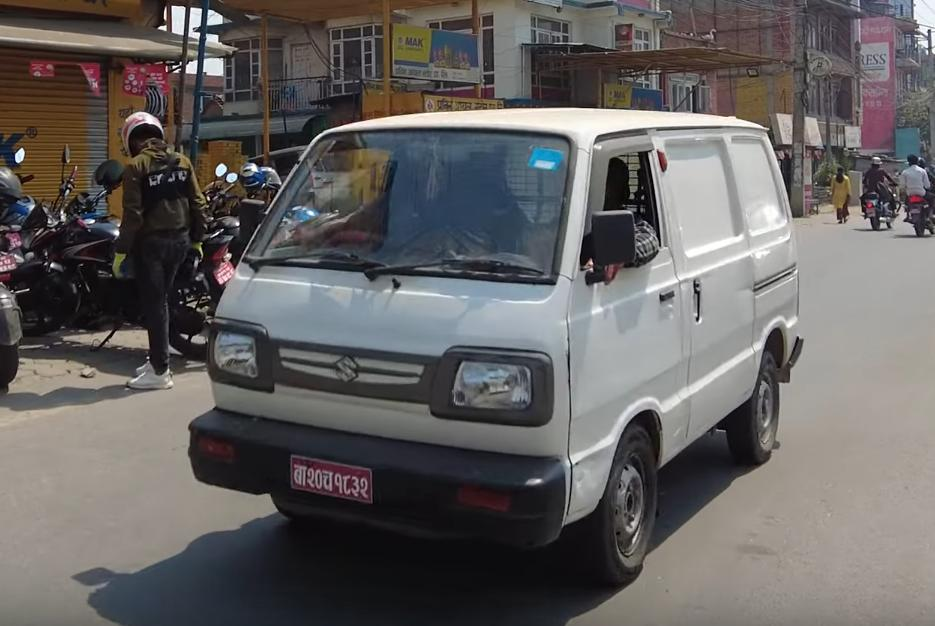bike: (8, 159, 234, 362), (853, 171, 902, 238)
van: (159, 94, 838, 589)
